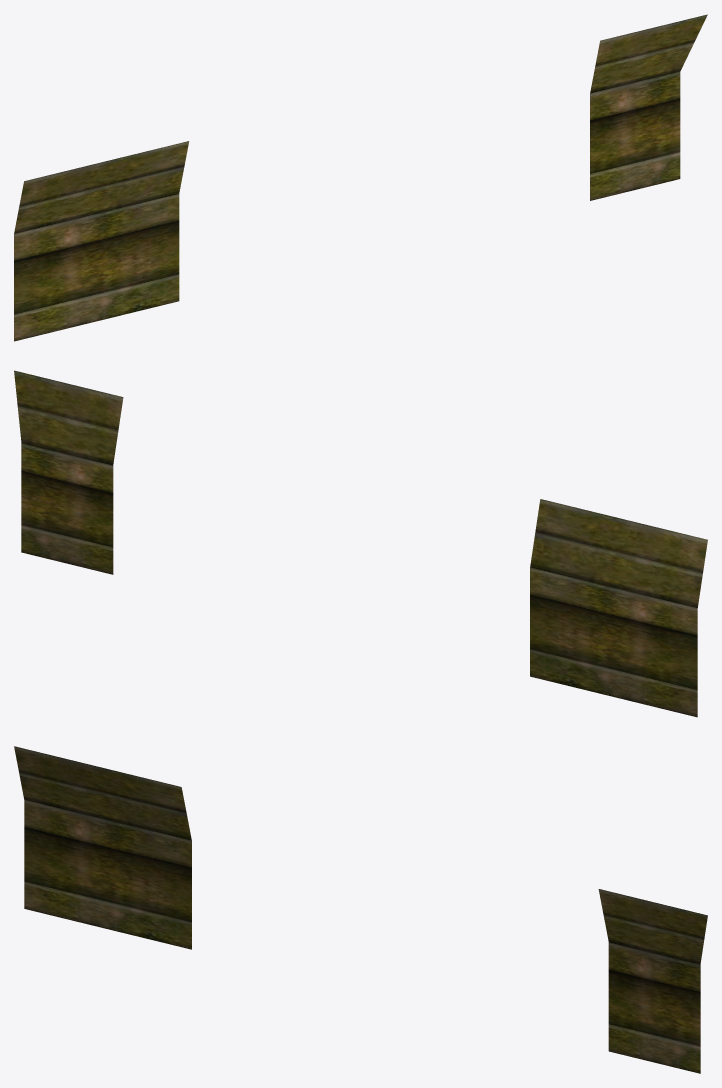
Rendered from OVERHILL_A_01_OBJECT141.fbx.
3 views of the same model, one above another, from view 1: azimuth 30°, elevation 25°; view 2: azimuth 150°, elevation 25°; view 3: azimuth 330°, elevation 25° (orthographic).
Visible parts, largest first — view 1: OVERHILL_A_01_OBJECT141; view 2: OVERHILL_A_01_OBJECT141; view 3: OVERHILL_A_01_OBJECT141.
Part boxes in pixels (bbox=[...]): OVERHILL_A_01_OBJECT141: bbox=[14, 14, 707, 341]; OVERHILL_A_01_OBJECT141: bbox=[14, 370, 707, 717]; OVERHILL_A_01_OBJECT141: bbox=[14, 746, 707, 1073].
Bounding box in the file's own units: 52745 × 12361 × 1348.
Materials: 2 (2 with a texture image).
